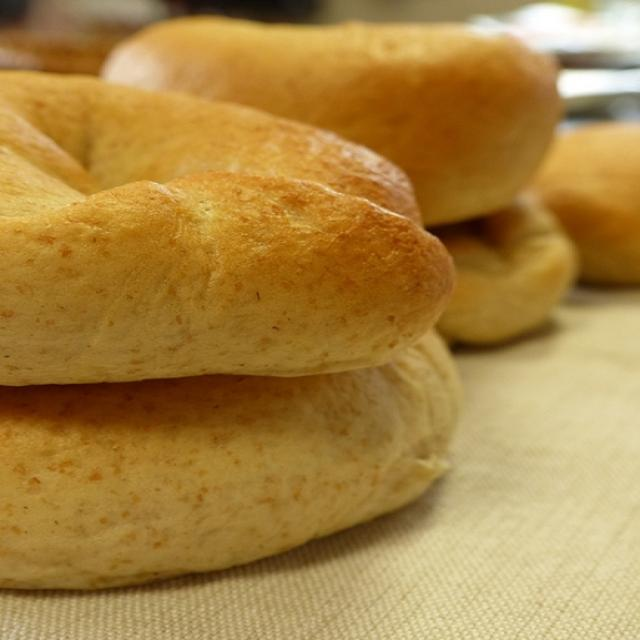面包点心: (6, 13, 625, 599)
